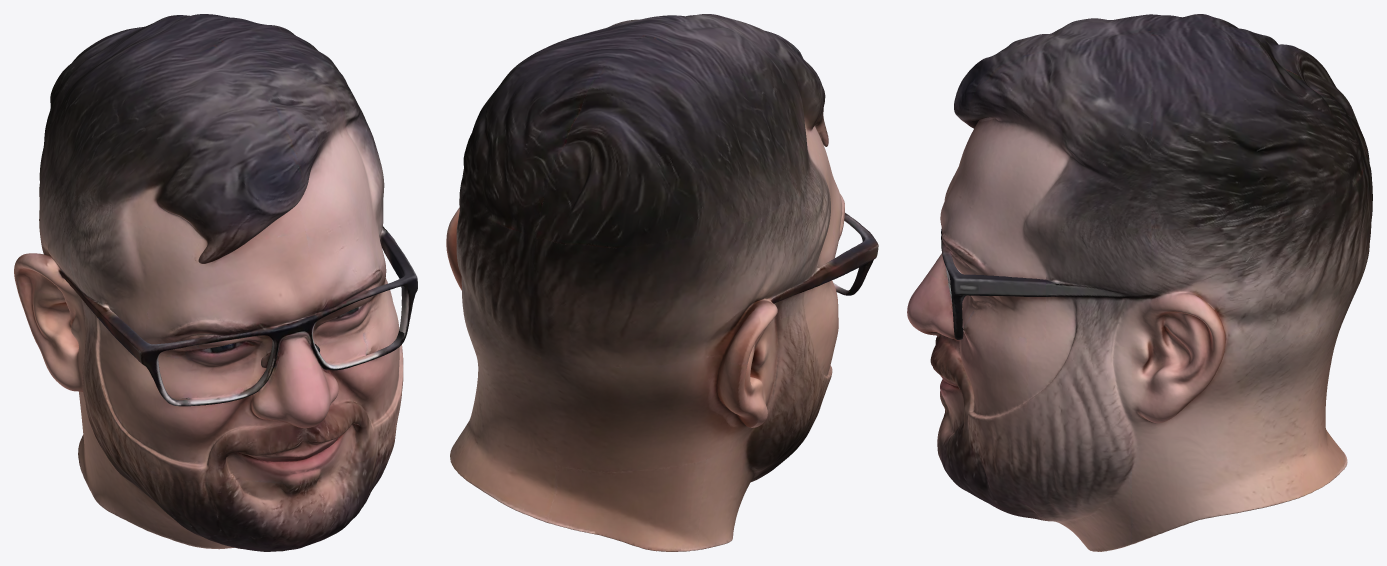
Rendered from morrisv2-optimized.glb.
The picture shows the model from 3 angles, left to right: view 1: azimuth 30°, elevation 25°; view 2: azimuth 150°, elevation 25°; view 3: azimuth 270°, elevation 25°; orthographic projection. The views are drawn at different scales.
Parts seen in each view (by area): view 1: tmpbn2r4zfpobj; view 2: tmpbn2r4zfpobj; view 3: tmpbn2r4zfpobj.
Part boxes in pixels (left/top/right/bottom): tmpbn2r4zfpobj: left=14, top=14, right=417, bottom=551; tmpbn2r4zfpobj: left=446, top=14, right=878, bottom=551; tmpbn2r4zfpobj: left=907, top=14, right=1372, bottom=551.
Size of the model in its own units: 0.696 by 1 by 0.848.
Materials: 1 (1 with a texture image).
